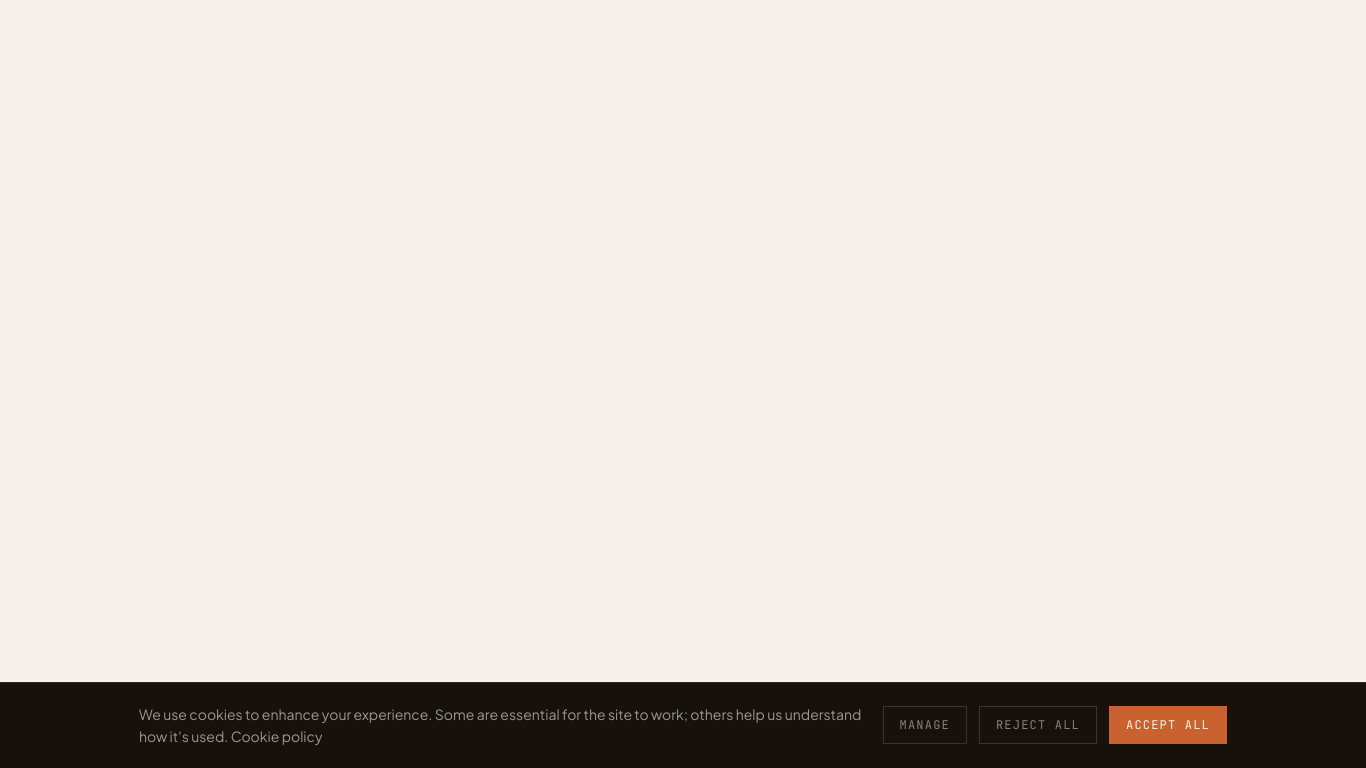
it: CookieConsent › opens the preferences panel when Manage is clicked
Click the button "Manage".
click(925, 725)  # box [883,706,967,744]
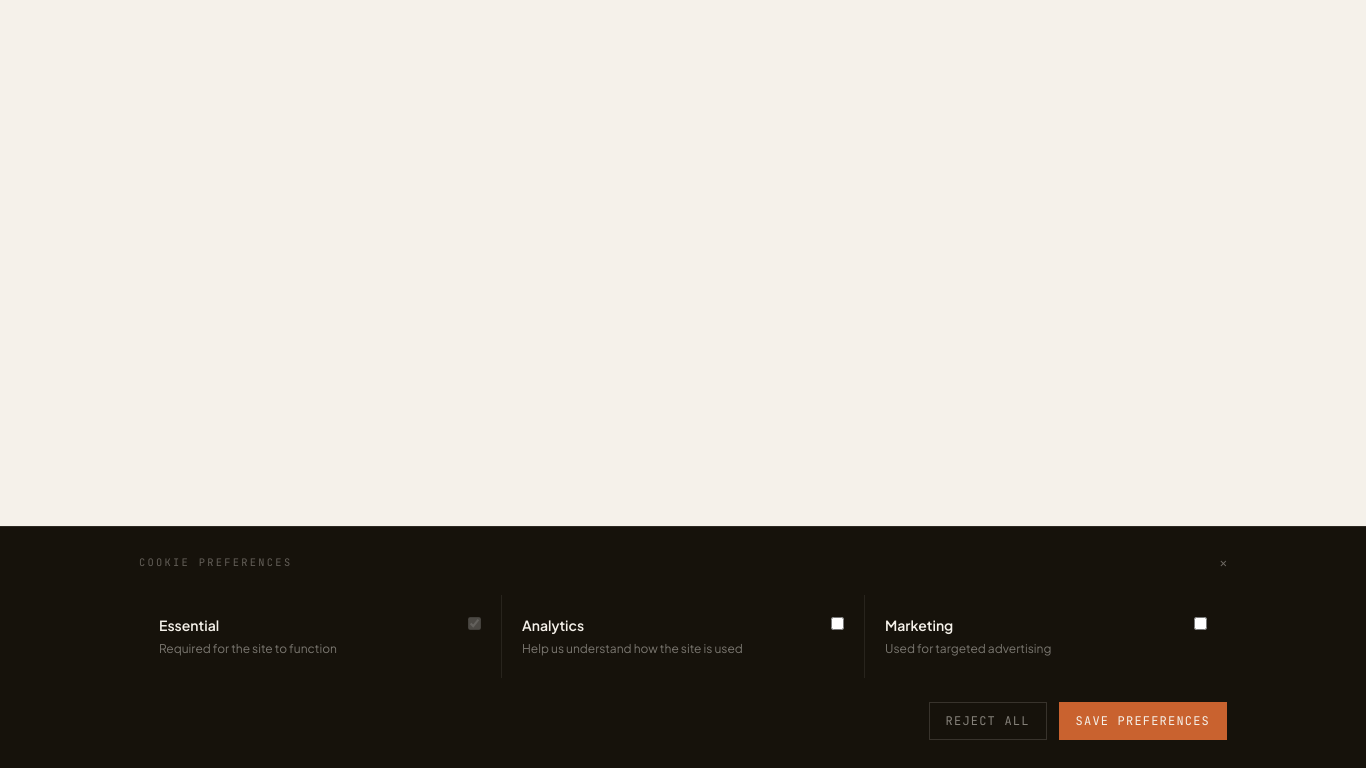
Expected: the text "Cookie Preferences" is shown, [139,555,292,570]
